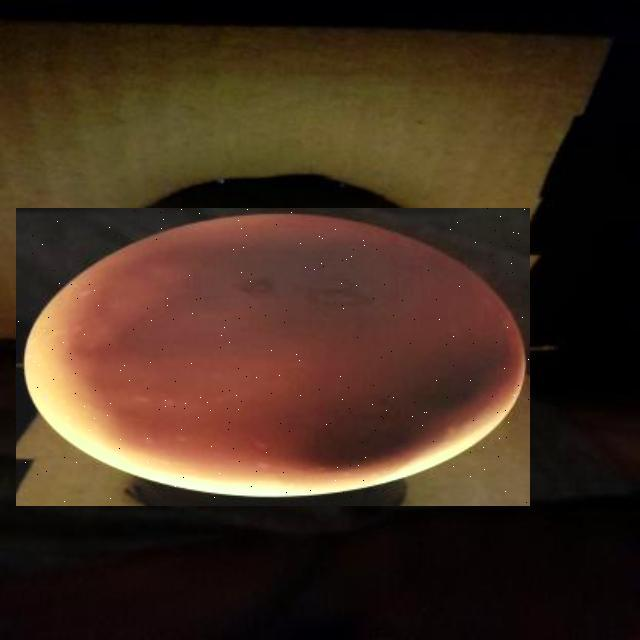Infertile: (16, 208, 530, 506)
